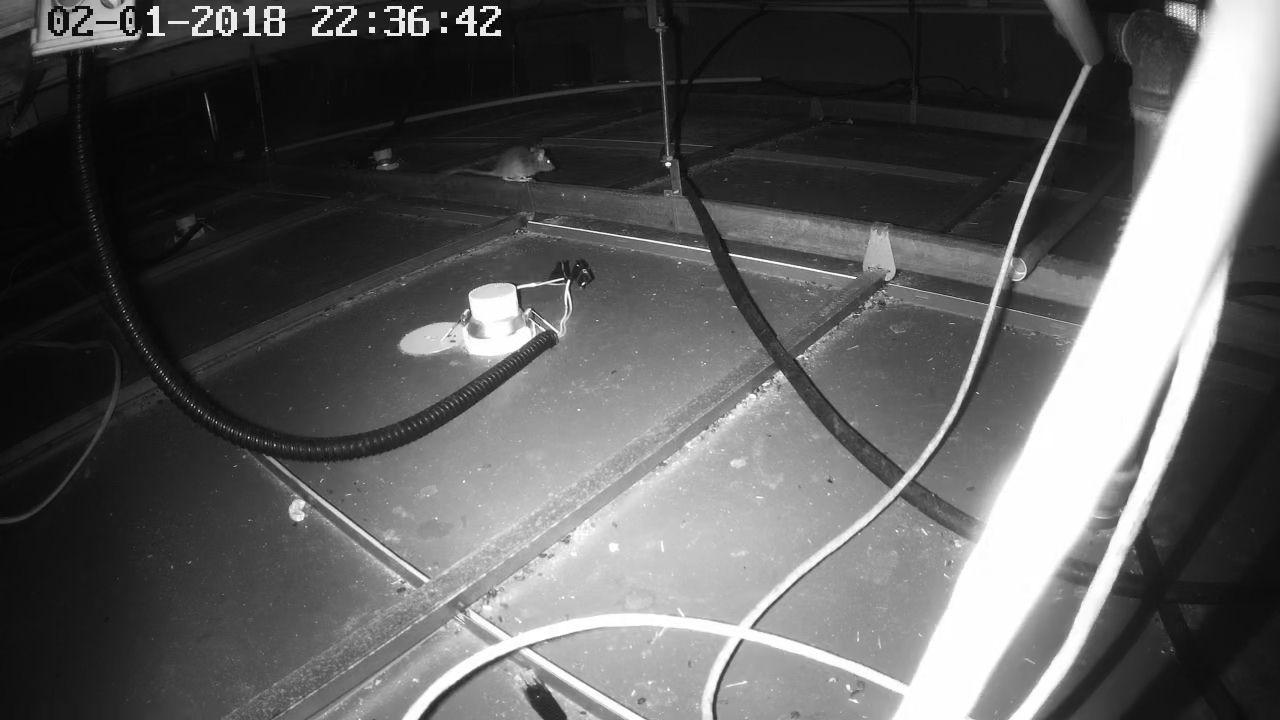rat: (471, 136, 557, 188)
